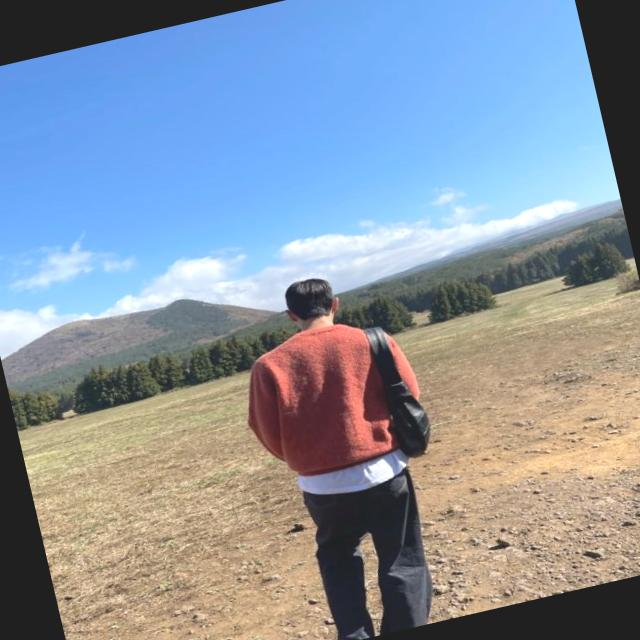denimpants: (296, 456, 446, 640)
sweater: (232, 306, 436, 486)
